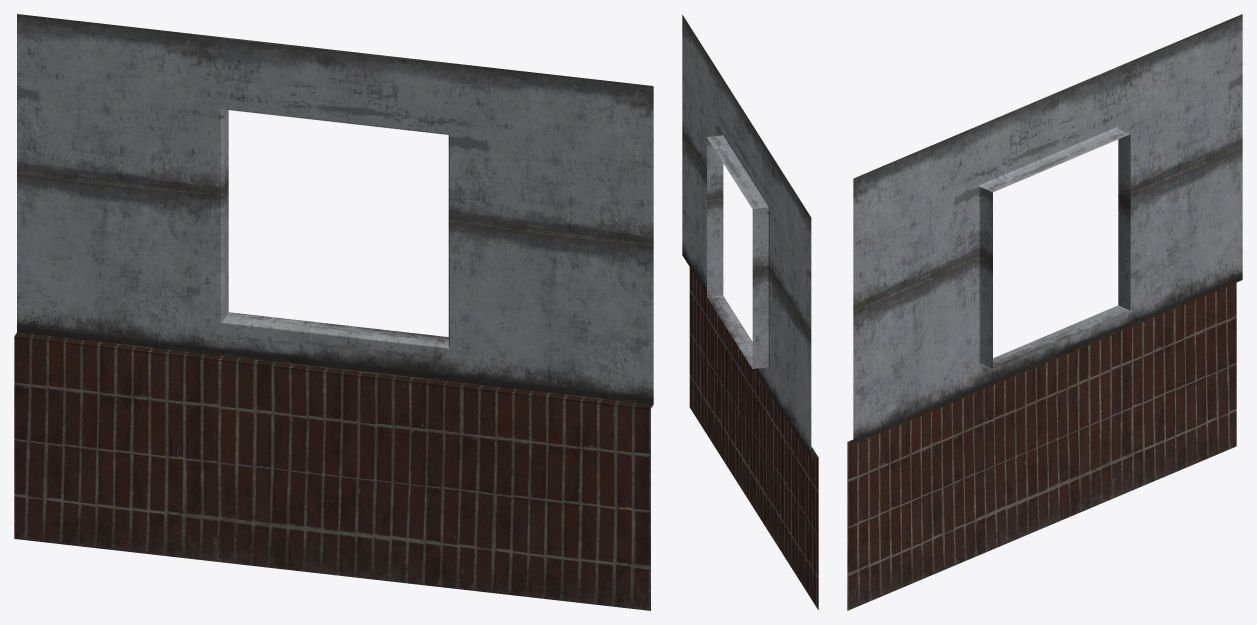
Rendered from Psychiatric_Ward_Guards_Room_Interior_Wall_45_Degree_Window.glb.
3 views of the same model, side by side, from view 1: azimuth 30°, elevation 25°; view 2: azimuth 150°, elevation 25°; view 3: azimuth 270°, elevation 25° (orthographic). The views are drawn at different scales.
Parts seen in each view (by area): view 1: Psychiatric_Ward_Guards_Room_Interior_Wall_45_Degree_Window; view 2: Psychiatric_Ward_Guards_Room_Interior_Wall_45_Degree_Window; view 3: Psychiatric_Ward_Guards_Room_Interior_Wall_45_Degree_Window.
Boxes of the visible parts, x1,y1,x2,y2 form: Psychiatric_Ward_Guards_Room_Interior_Wall_45_Degree_Window: (14,14,653,610); Psychiatric_Ward_Guards_Room_Interior_Wall_45_Degree_Window: (682,15,818,609); Psychiatric_Ward_Guards_Room_Interior_Wall_45_Degree_Window: (847,14,1242,610).
Size of the model in its own units: 2.03 by 2.47 by 2.03.
1 material, 1 textured.
